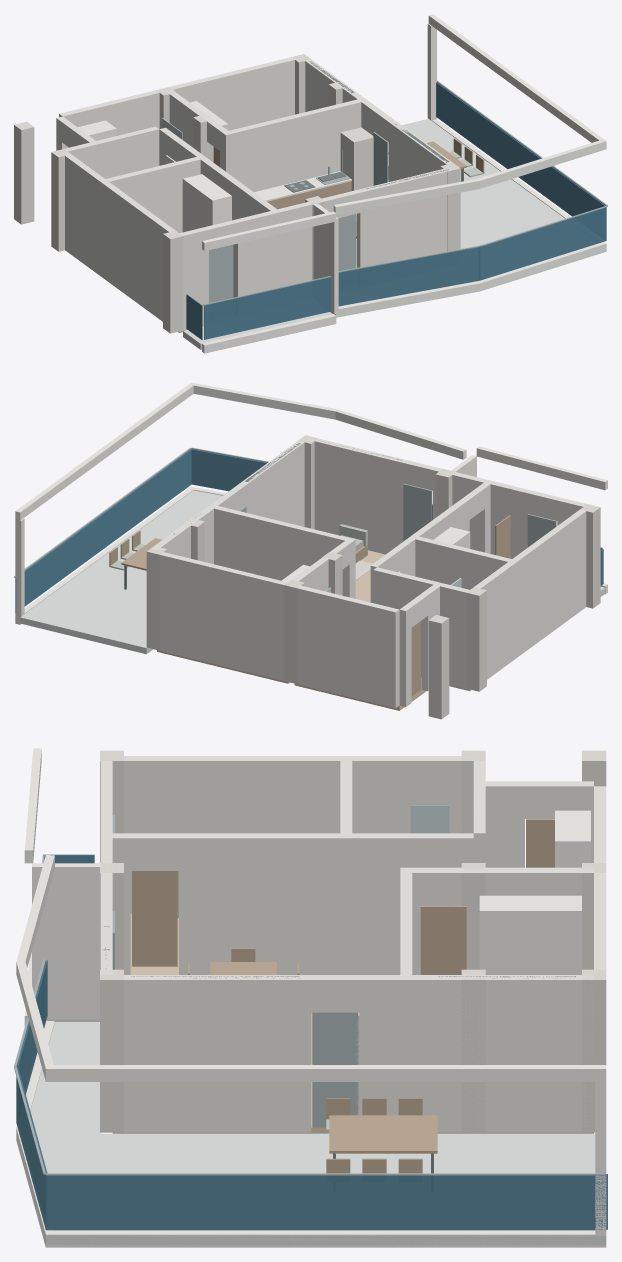
Rendered from apartment.glb.
3 views of the same model, one above another, from view 1: azimuth 30°, elevation 25°; view 2: azimuth 150°, elevation 25°; view 3: azimuth 270°, elevation 25° (orthographic). The views are drawn at different scales.
Parts seen in each view (by area): view 1: Terrace glass (×3), West exterior north, Kitchen back wall, South exterior east, Terrace slab east, South exterior mid, North exterior east, Terrace soffit (×3), Balcony glass, Terrace fascia (×3), Bathroom south wall, North exterior west (+28 smaller); view 2: North exterior east, West exterior north, North exterior west, Terrace slab east, Terrace glass (×2), South exterior east, Kitchen back wall, Terrace soffit (×3), East exterior south, South exterior mid, Bathroom south wall, NW Column (+32 smaller); view 3: Terrace glass (×3), Bathroom east wall south, East exterior north, East exterior south, Terrace slab east, West exterior north, Terrace soffit (×3), Balcony divider, Wardrobe 1, Terrace slab south, Terrace fascia, Bedroom 2 open door (+38 smaller).
Part boxes in pixels (x1,y1,x2,y2): Terrace glass (×3): (338, 82, 606, 306); West exterior north: (61, 152, 175, 321); Kitchen back wall: (229, 99, 361, 191); South exterior east: (356, 169, 451, 267); Terrace slab east: (388, 118, 564, 248); South exterior mid: (234, 197, 331, 297); North exterior east: (169, 57, 294, 130); Terrace soffit (×3): (333, 14, 606, 214); Balcony glass: (204, 277, 330, 339); Terrace fascia (×3): (335, 119, 606, 317); Bathroom south wall: (105, 157, 206, 233); North exterior west: (59, 90, 159, 135); North exterior east: (159, 552, 287, 680); West exterior north: (474, 509, 586, 679); North exterior west: (297, 585, 399, 708); Terrace slab east: (20, 490, 222, 654); Terrace glass (×2): (15, 449, 266, 612); South exterior east: (308, 438, 406, 554); Kitchen back wall: (214, 506, 348, 595); Terrace soffit (×3): (15, 382, 466, 520); East exterior south: (239, 441, 304, 526); South exterior mid: (433, 467, 531, 558); Bathroom south wall: (410, 535, 511, 589); NW Column: (428, 615, 449, 719); Terrace glass (×3): (16, 960, 607, 1230); Bathroom east wall south: (179, 833, 401, 974); East exterior north: (359, 975, 593, 1132); East exterior south: (124, 975, 311, 1132); Terrace slab east: (37, 1133, 606, 1245); West exterior north: (124, 756, 473, 913); Terrace soffit (×3): (16, 855, 606, 1081); Balcony divider: (32, 863, 100, 1019); Wardrobe 1: (479, 895, 581, 974); Terrace slab south: (30, 1022, 100, 1133); Terrace fascia: (46, 1231, 606, 1247); Bedroom 2 open door: (132, 871, 177, 966).
Size of the model in its own units: 13.06 by 3.28 by 9.87.
